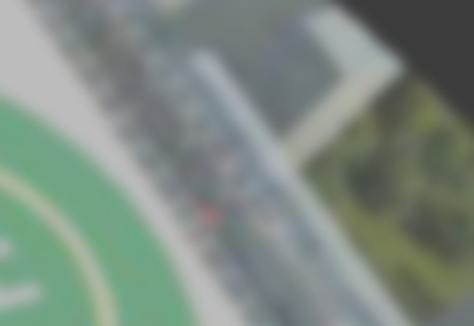Apron: (1, 166, 118, 323)
